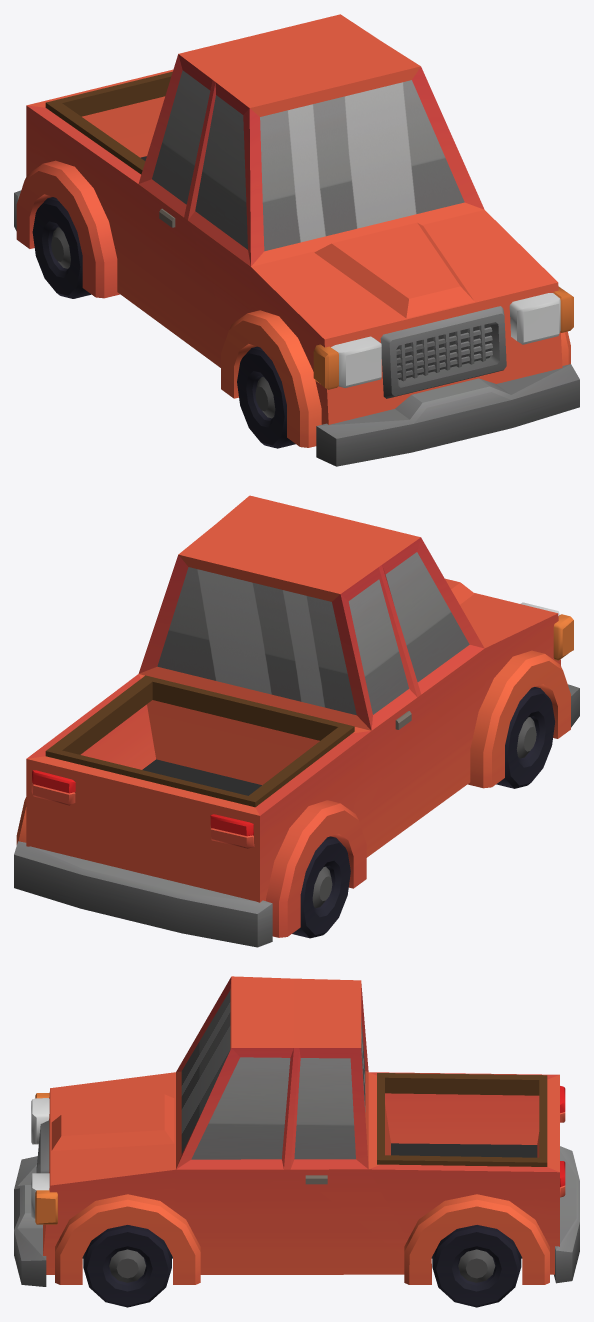
The model's file is PickUp_17.fbx.
3 views of the same model, one above another, from view 1: azimuth 30°, elevation 25°; view 2: azimuth 150°, elevation 25°; view 3: azimuth 270°, elevation 25° (orthographic). The views are drawn at different scales.
Visible parts, largest first — view 1: PickUp_17, BWhel_BR, BWhel_FR; view 2: PickUp_17, BWhel_BR, BWhel_FR; view 3: PickUp_17, BWhel_BL, BWhel_FL.
Part boxes in pixels (<box>): PickUp_17: <box>14,14,579,466</box>; BWhel_BR: <box>32,197,91,298</box>; BWhel_FR: <box>237,346,295,448</box>; PickUp_17: <box>14,495,579,947</box>; BWhel_BR: <box>292,836,350,938</box>; BWhel_FR: <box>496,687,554,788</box>; PickUp_17: <box>14,976,579,1286</box>; BWhel_BL: <box>432,1225,521,1307</box>; BWhel_FL: <box>83,1225,171,1307</box>.
Bounding box in the file's own units: 1.09 × 1.08 × 2.3.
